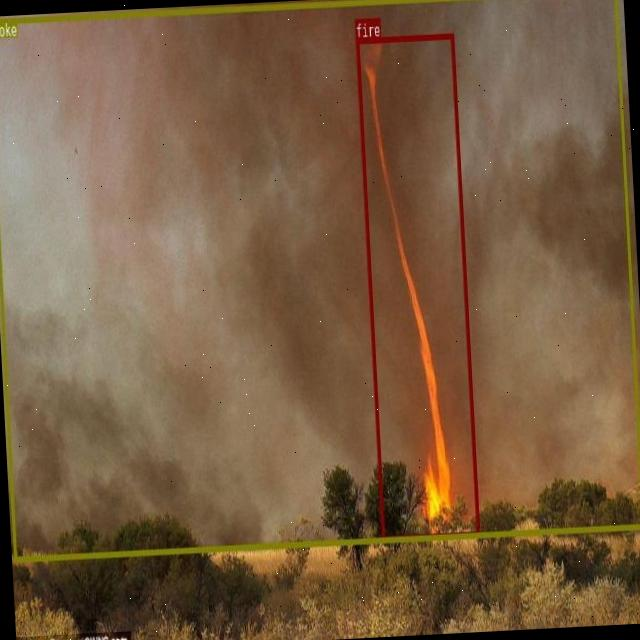fire: (356, 34, 480, 541)
smoke: (0, 0, 640, 561)
